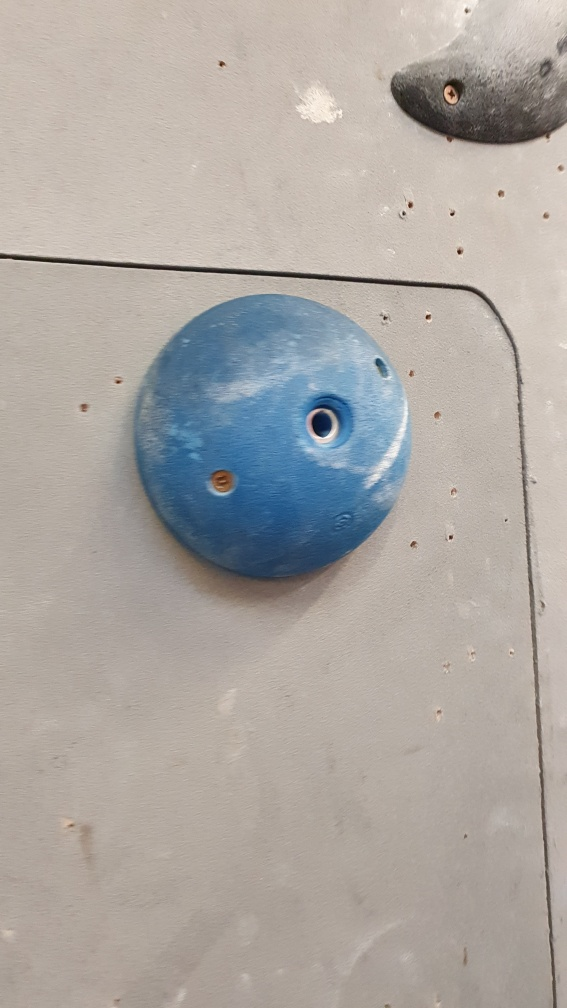Sloper: (128, 290, 419, 585)
